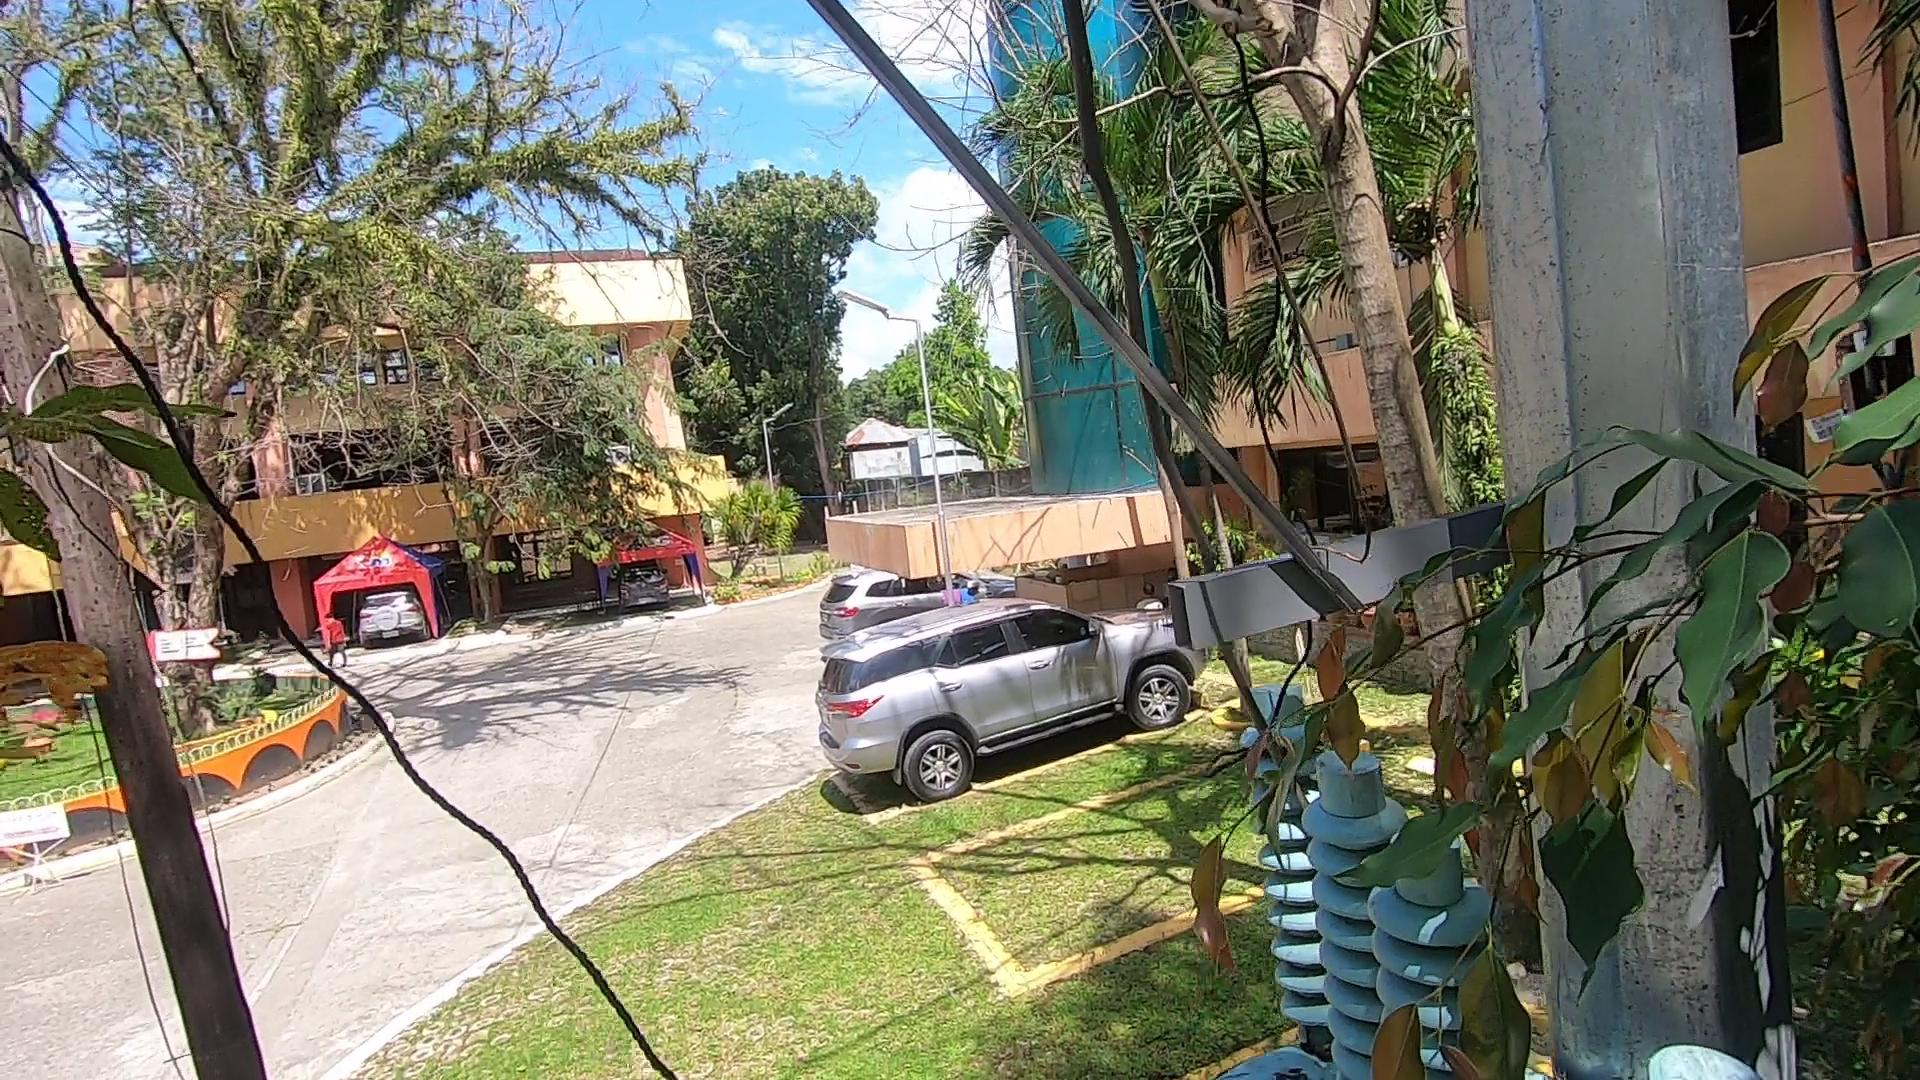branch with leaves: (1116, 605, 1602, 1080)
tree branch: (1035, 3, 1294, 653)
